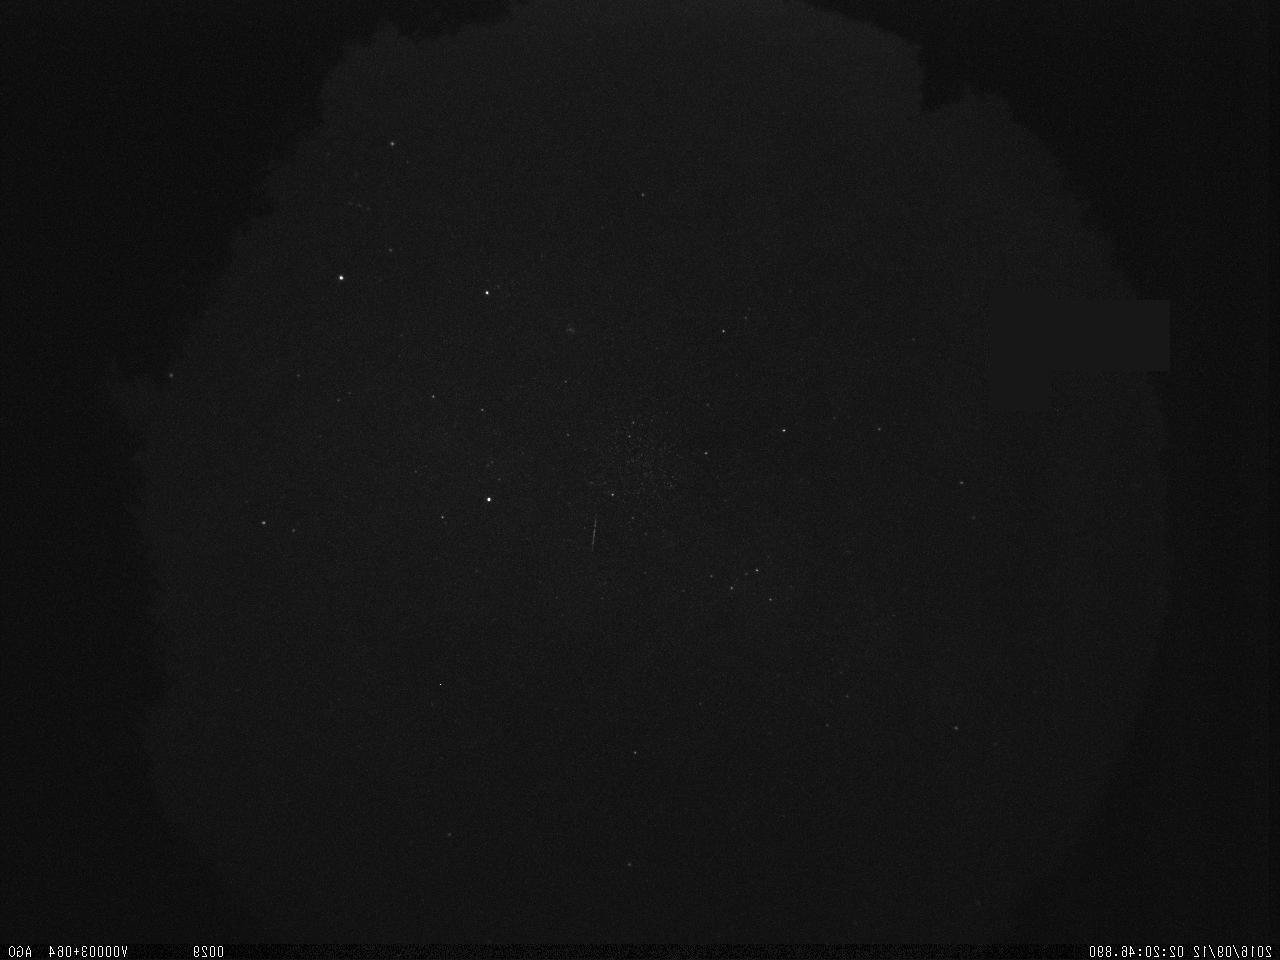meteor: (578, 505, 609, 564)
